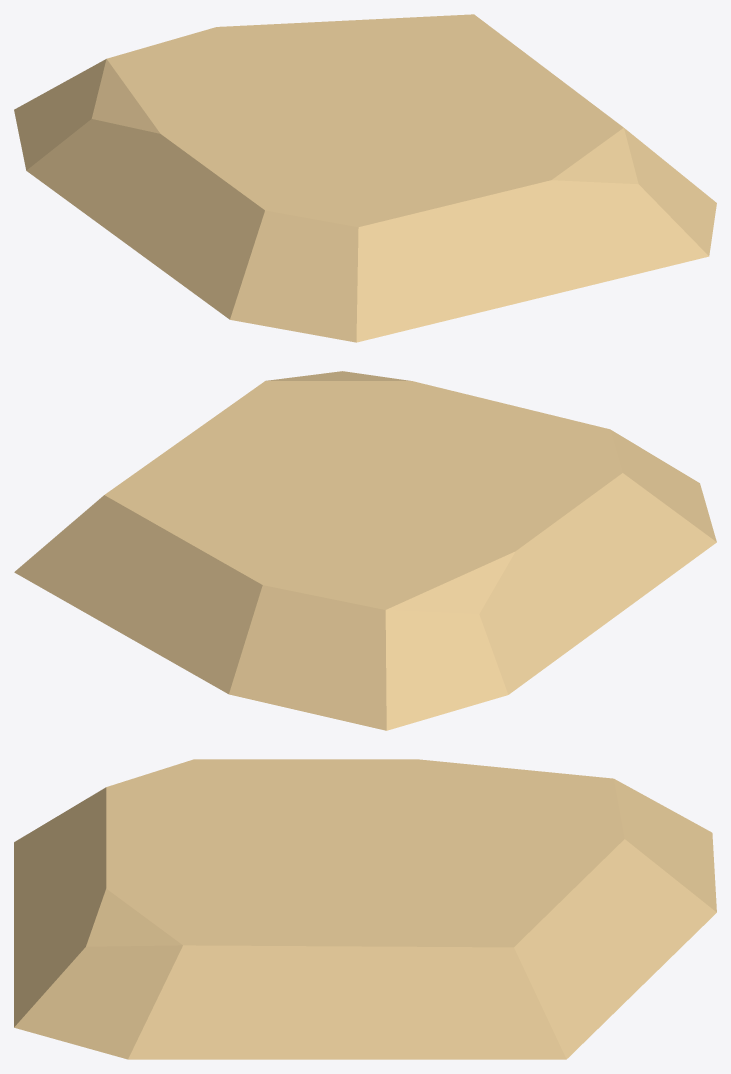
The model's file is Mesh_FloorStone2.glb.
3 renders of one model, top to bottom at view 1: azimuth 30°, elevation 25°; view 2: azimuth 150°, elevation 25°; view 3: azimuth 270°, elevation 25°, orthographic. The views are drawn at different scales.
Visible parts, largest first — view 1: Cube.041; view 2: Cube.041; view 3: Cube.041.
Part boxes in pixels (x1,y1,x2,y2): Cube.041: (14, 14, 716, 342); Cube.041: (14, 371, 716, 730); Cube.041: (14, 759, 716, 1059).
Size of the model in its own units: 2.98 by 0.4287 by 3.47.
